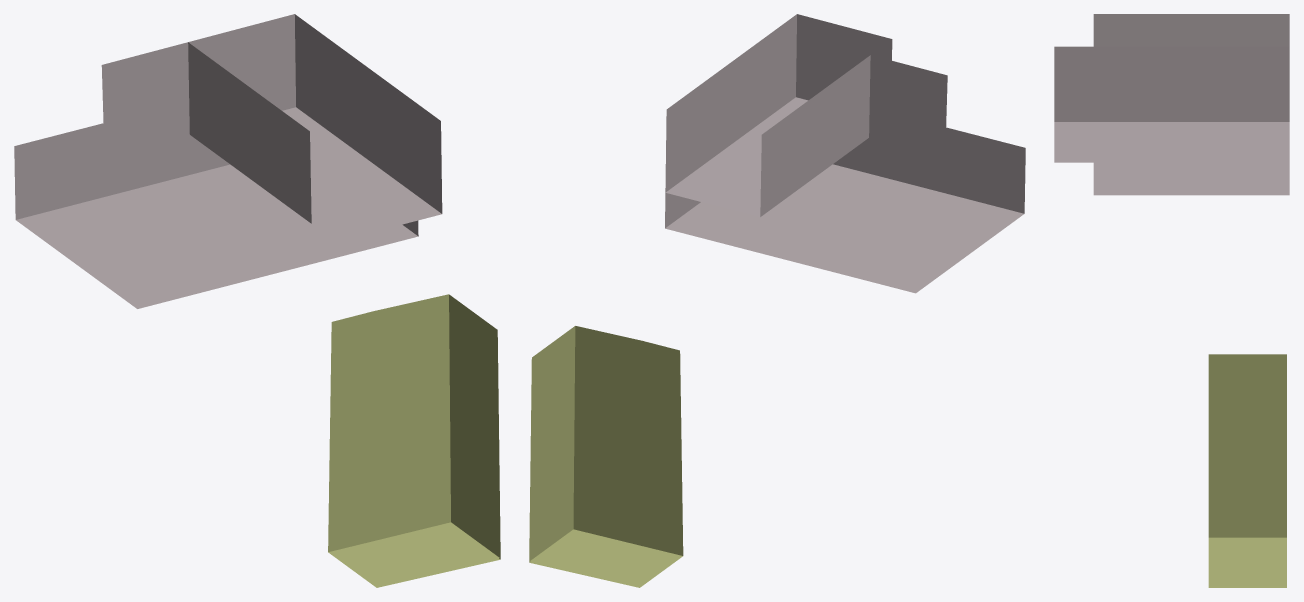
The picture shows the model from 3 angles, left to right: view 1: azimuth 30°, elevation 25°; view 2: azimuth 150°, elevation 25°; view 3: azimuth 270°, elevation 25°; orthographic projection. The views are drawn at different scales.
Parts seen in each view (by area): view 1: 0_2_3_3_3_1_3_1_2; view 2: 0_2_3_3_3_1_3_1_2; view 3: 0_2_3_3_3_1_3_1_2.
Boxes of the visible parts, x1,y1,x2,y2 form: 0_2_3_3_3_1_3_1_2: [14, 14, 500, 587]; 0_2_3_3_3_1_3_1_2: [529, 14, 1025, 587]; 0_2_3_3_3_1_3_1_2: [1054, 14, 1289, 587].
Bounding box in the file's own units: 31 × 37.14 × 18.
